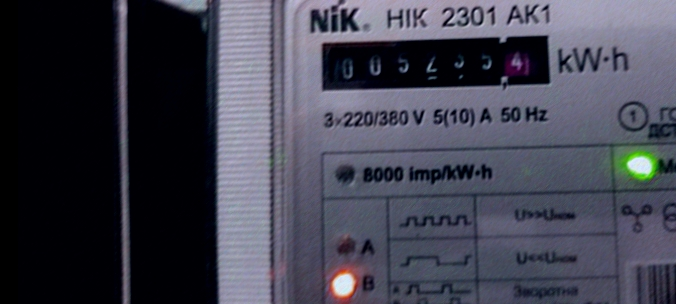0: (340, 55, 356, 80), (368, 53, 384, 77)
2: (423, 48, 440, 74)
3: (450, 45, 467, 70)
4: (508, 45, 527, 74)
5: (478, 44, 495, 72), (396, 50, 411, 75)
screen: (309, 25, 560, 99)
